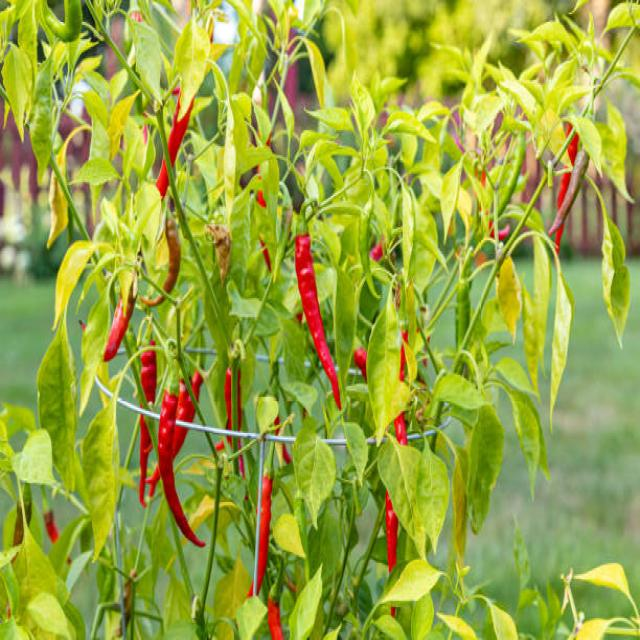Ripe: (295, 234, 341, 408), (159, 390, 205, 547), (155, 92, 194, 195), (104, 291, 134, 362), (259, 476, 272, 593), (139, 416, 152, 505), (386, 491, 399, 571), (140, 349, 156, 402)
Unripe: (44, 0, 81, 42)
